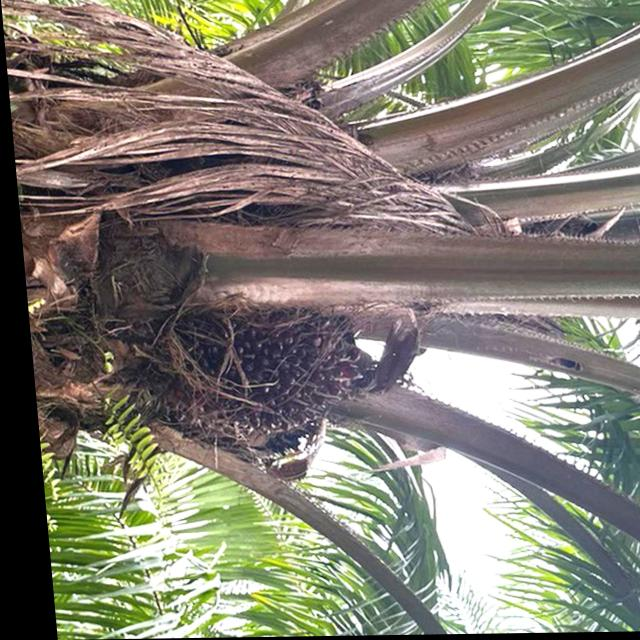ripe: (162, 297, 380, 466)
